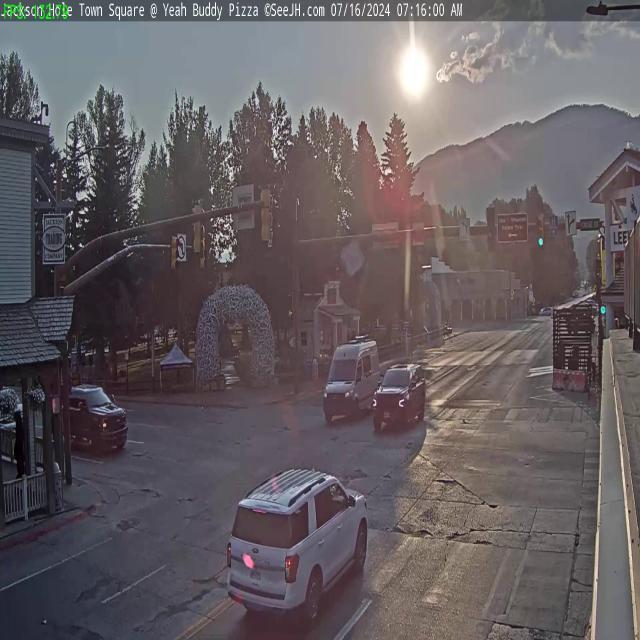pickup: (47, 379, 132, 455)
suv: (222, 462, 372, 640), (376, 357, 428, 439)
traffic light: (190, 198, 204, 254), (260, 184, 273, 244), (170, 231, 180, 277), (487, 206, 496, 250), (536, 214, 546, 247)
van: (322, 333, 380, 420)
